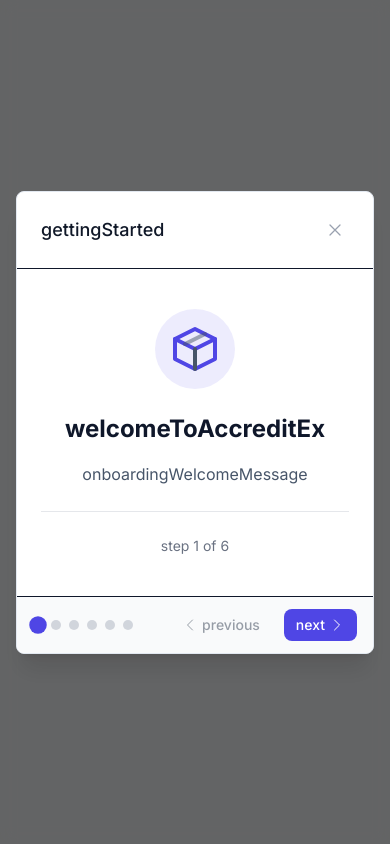
Test: OnboardingModal › Navigation › should navigate to next step when Next button is clicked
Click the button "next".
click(320, 624)  # box [284,608,357,640]
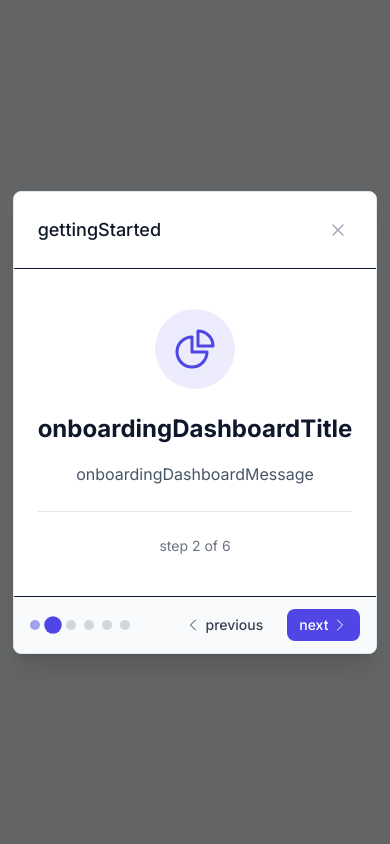
Expected: the heading "onboardingDashboardTitle" is shown, [38,412,352,444]
